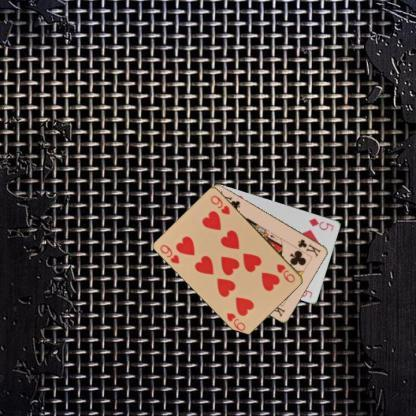5d: (306, 216, 336, 232)
9h: (158, 242, 181, 265), (274, 261, 296, 284)
Kc: (295, 236, 322, 258)
